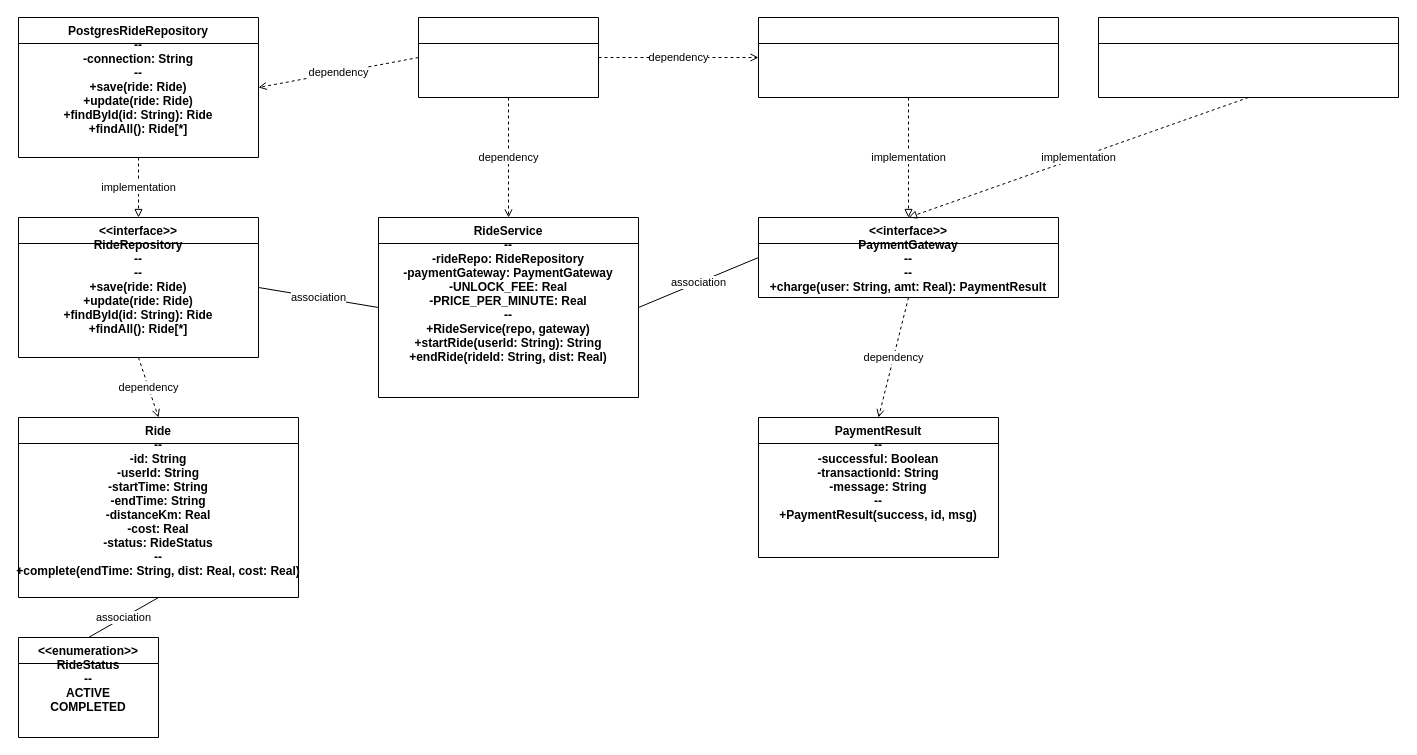
The diagram is 1417 pixels wide and 755 high, and some of its shapes have lost their labels. Here are the shapes that lost their labels. From the top down, the centre of each, then its label:
At (x=508, y=57): "App -- -- +main(args: String[*])".
At (x=908, y=57): "StripeGateway -- -- +charge(user: String, amt: Real): PaymentResult".
At (x=1248, y=57): "WalletGateway -- -- +charge(user: String, amt: Real): PaymentResult".
